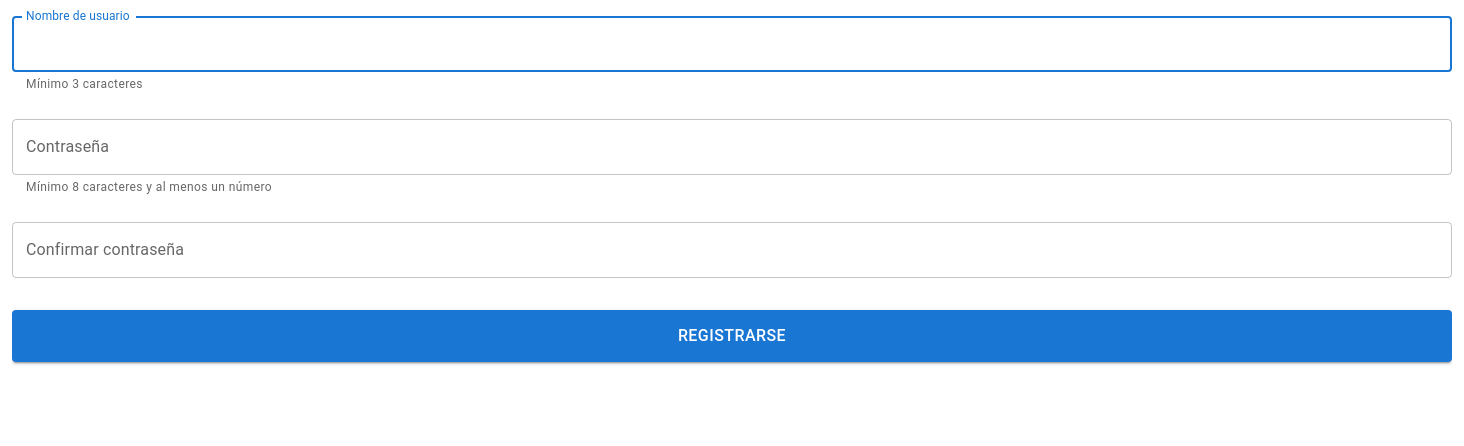
AddUser component › successful registration
This screenshot has width=1464, height=446.
Step 1. Type "newuser" into the field with test id "register-username-field" → (732, 44), box x1=12 y1=16 x2=1452 y2=72
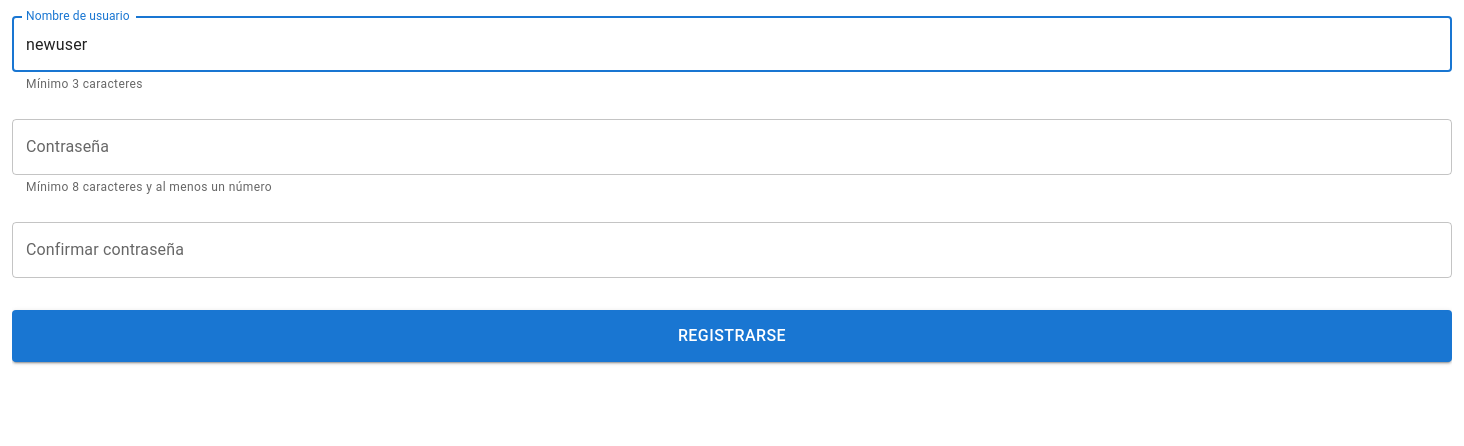
Step 2. Type "password123" into the password field with test id "register-password-field" → (732, 147), box x1=12 y1=119 x2=1452 y2=175
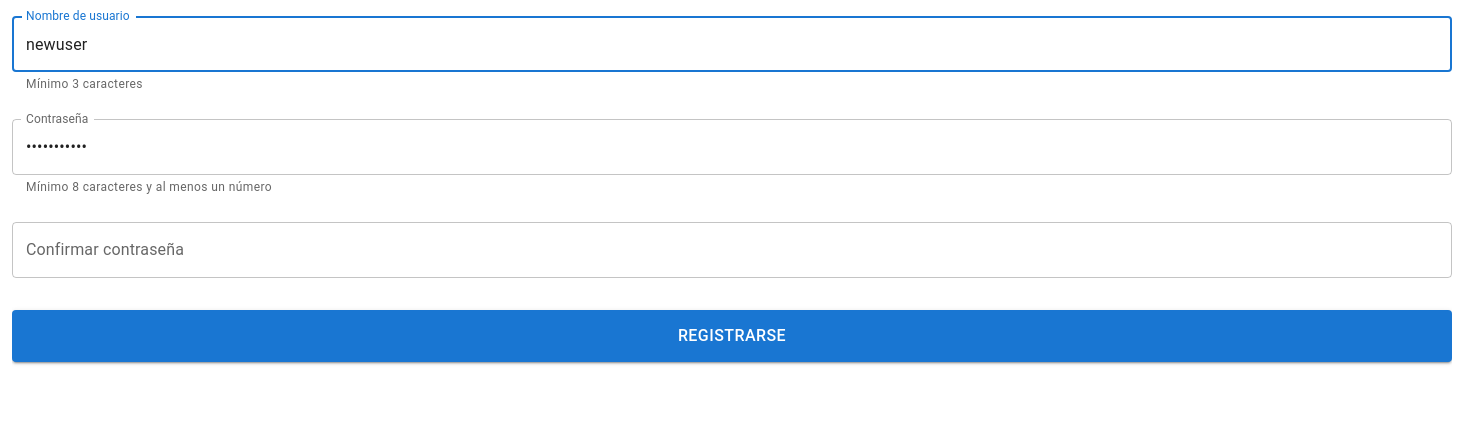
Step 3. Type "password123" into the password field with test id "register-confirm-password-field" → (732, 250), box x1=12 y1=222 x2=1452 y2=278
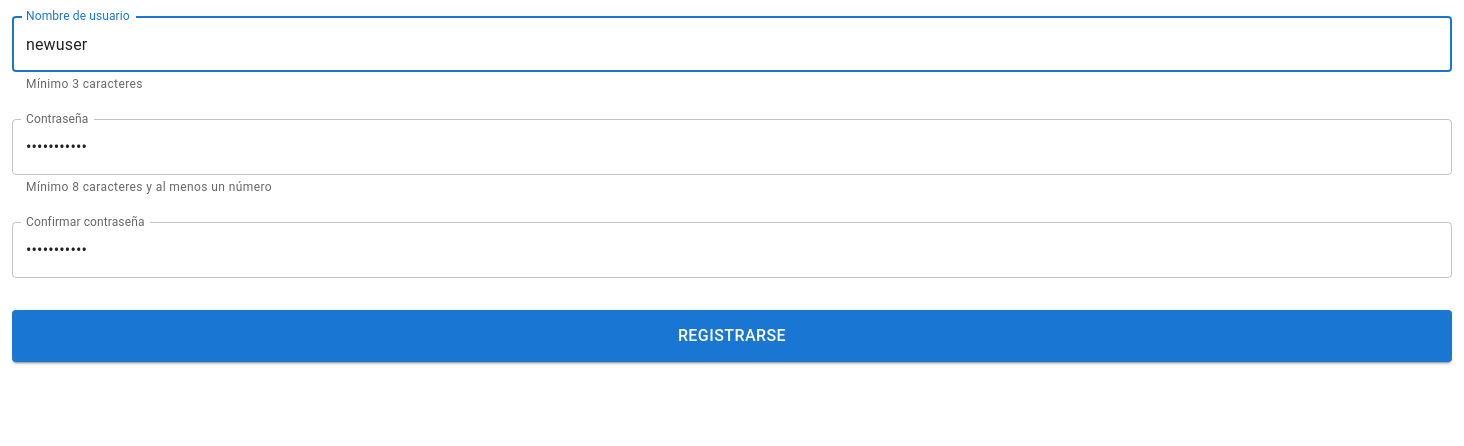
Step 4. Click the button with test id "register-submit-button" → (732, 336), box x1=12 y1=310 x2=1452 y2=362
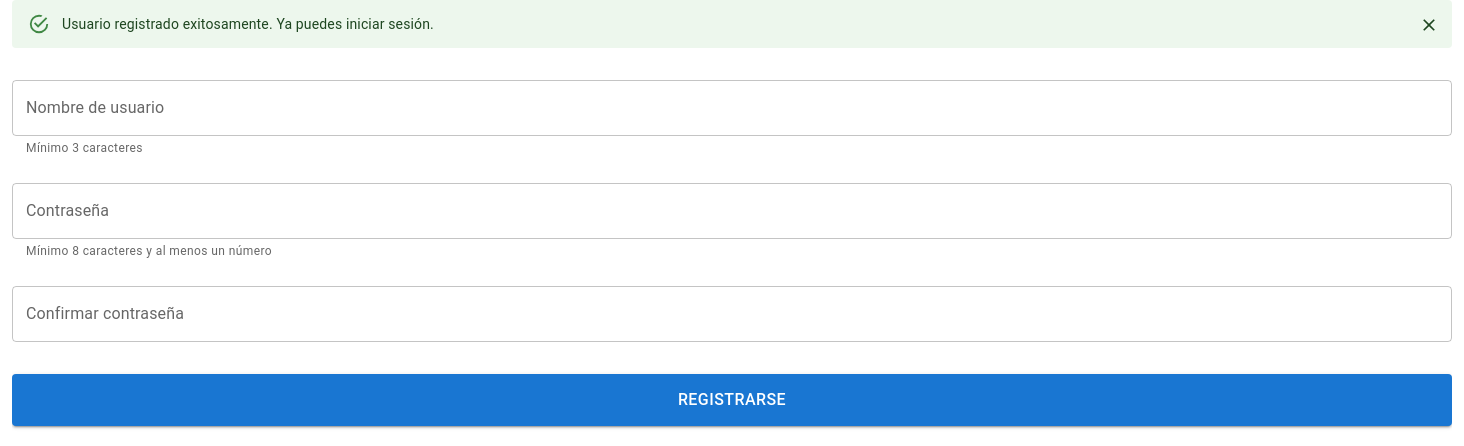
Now the message "Usuario registrado exitosamente. Ya puedes iniciar sesión." is shown, box x1=12 y1=0 x2=1452 y2=48
